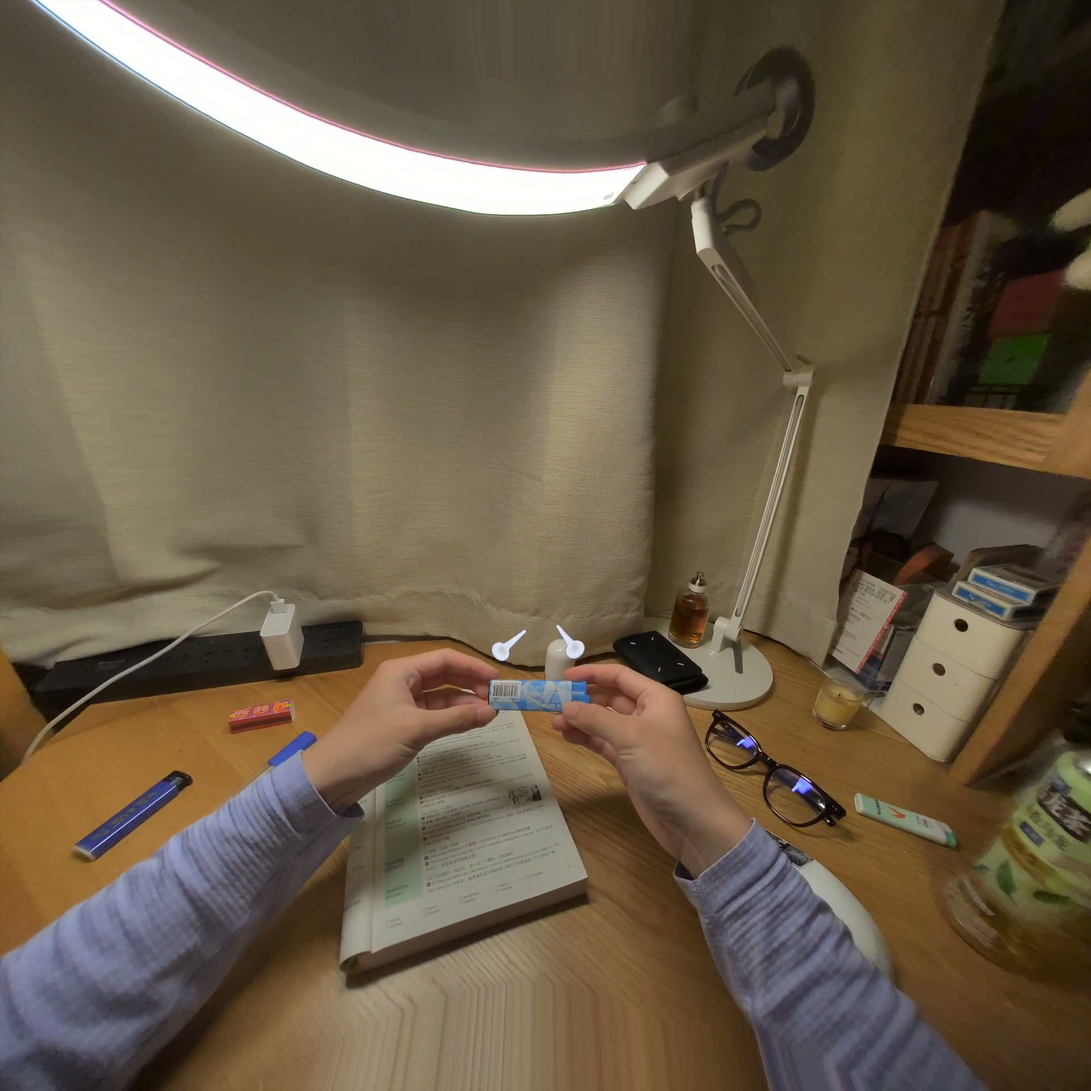lighter: (489, 680, 589, 713)
